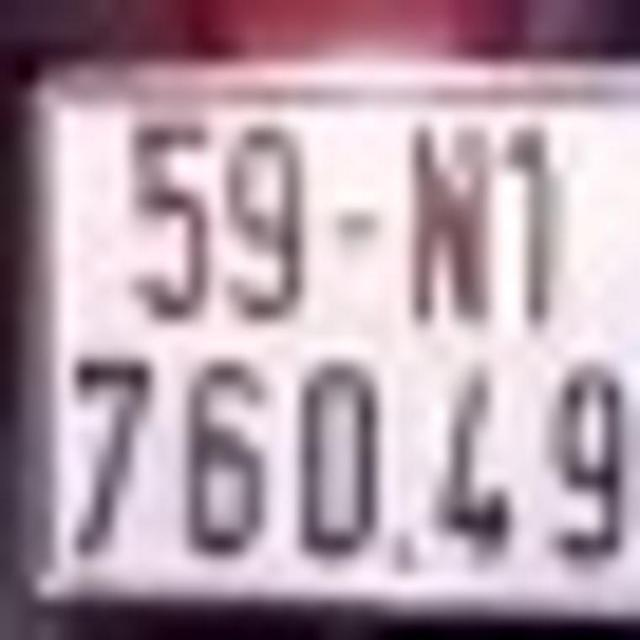0: (292, 352, 383, 564)
1: (500, 107, 559, 328)
4: (444, 352, 518, 578)
5: (129, 117, 209, 326)
6: (186, 357, 265, 558)
7: (68, 350, 160, 556)
9: (222, 121, 308, 328), (549, 348, 624, 570)
N: (408, 118, 497, 332)
